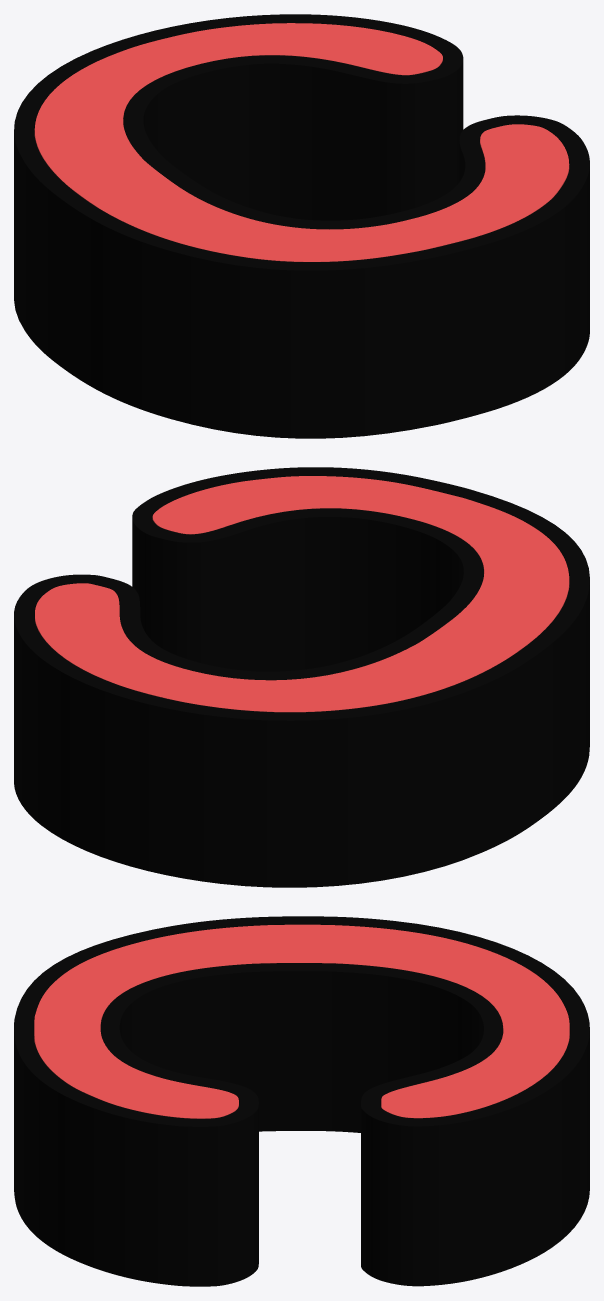
The picture shows the model from 3 angles, top to bottom: view 1: azimuth 30°, elevation 25°; view 2: azimuth 150°, elevation 25°; view 3: azimuth 270°, elevation 25°; orthographic projection. The views are drawn at different scales.
Parts seen in each view (by area): view 1: path64, path66; view 2: path64, path66; view 3: path64, path66.
Boxes of the visible parts, x1,y1,x2,y2 form: path64: (14,14,589,438); path66: (34,23,569,261); path64: (14,467,589,887); path66: (35,476,569,712); path64: (14,916,589,1286); path66: (34,924,569,1118).
Bounding box in the file's own units: 0.6444 × 0.2279 × 0.7448.
